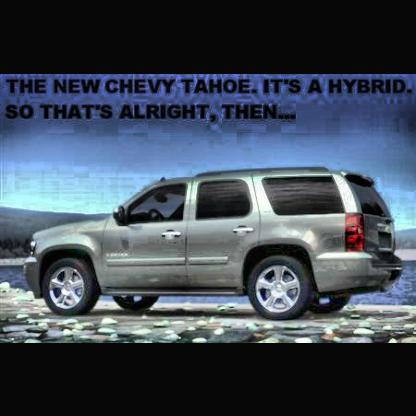Chevrolet Tahoe Hybrid SUV 2012: (28, 168, 416, 319)
